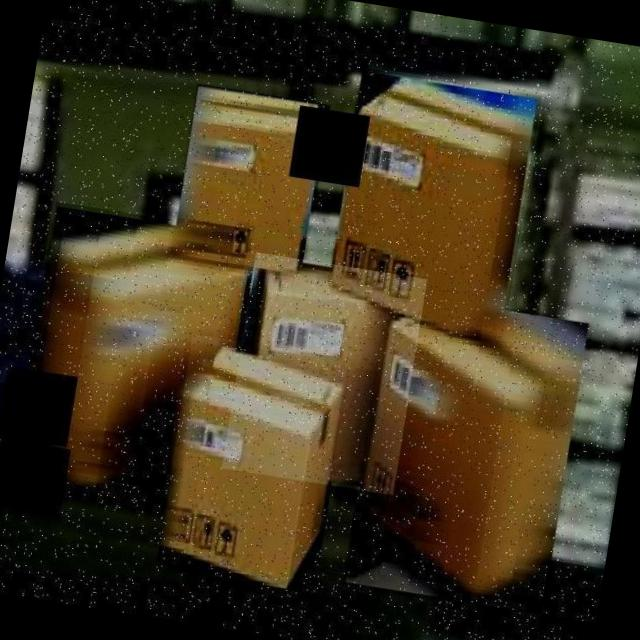box: (342, 290, 594, 619), (12, 202, 263, 514), (321, 68, 542, 350), (155, 334, 354, 598), (222, 253, 427, 496), (170, 84, 331, 276)
